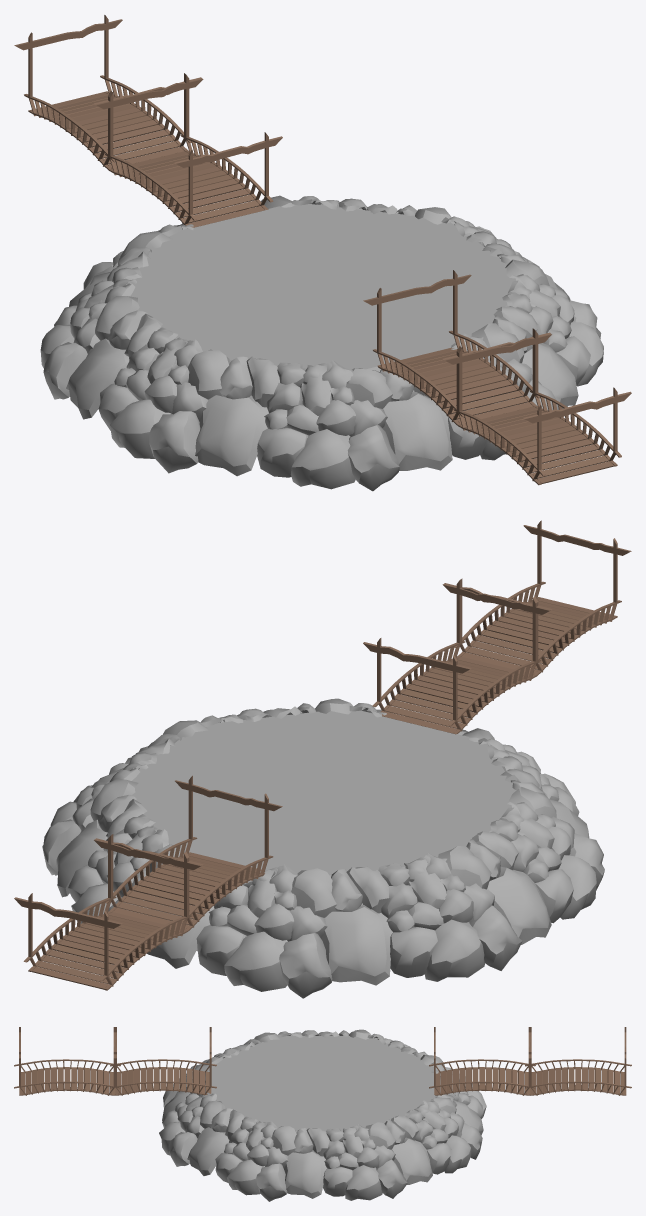
Rendered from Bridge_islands.fbx.
The picture shows the model from 3 angles, top to bottom: view 1: azimuth 30°, elevation 25°; view 2: azimuth 150°, elevation 25°; view 3: azimuth 270°, elevation 25°; orthographic projection. The views are drawn at different scales.
Parts seen in each view (by area): view 1: Rocks, Floor, Bridge_1, Bridge_2; view 2: Rocks, Floor, Bridge_2, Bridge_1; view 3: Rocks, Floor, Bridge_2, Bridge_1.
Boxes of the visible parts, left/top/right/bottom form: Rocks: left=40, top=195, right=603, bottom=491; Floor: left=130, top=204, right=515, bottom=456; Bridge_1: left=363, top=270, right=631, bottom=485; Bridge_2: left=14, top=15, right=282, bottom=227; Rocks: left=42, top=698, right=604, bottom=998; Floor: left=132, top=710, right=516, bottom=950; Bridge_2: left=14, top=775, right=282, bottom=990; Bridge_1: left=363, top=520, right=631, bottom=734; Rocks: left=159, top=1029, right=486, bottom=1201; Floor: left=211, top=1036, right=436, bottom=1150; Bridge_2: left=429, top=1027, right=631, bottom=1095; Bridge_1: left=14, top=1027, right=216, bottom=1095.
Size of what is drawn, in the model's own units: 159 by 53.6 by 301.
